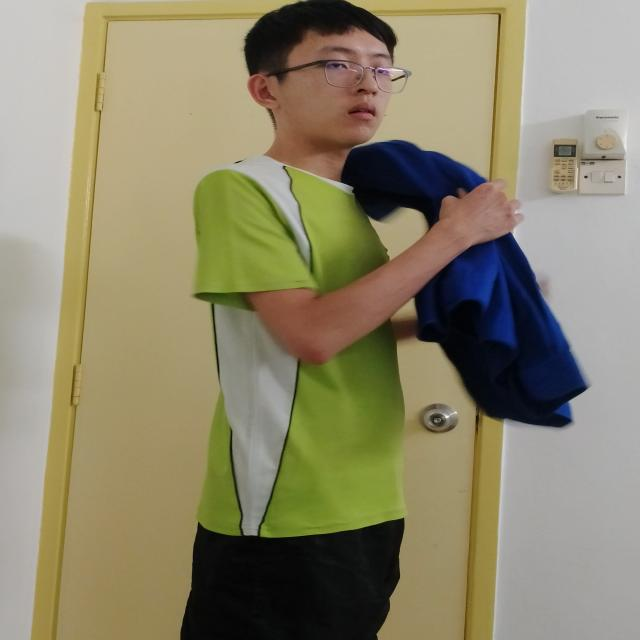person_without_labcoat: (180, 0, 584, 640)
